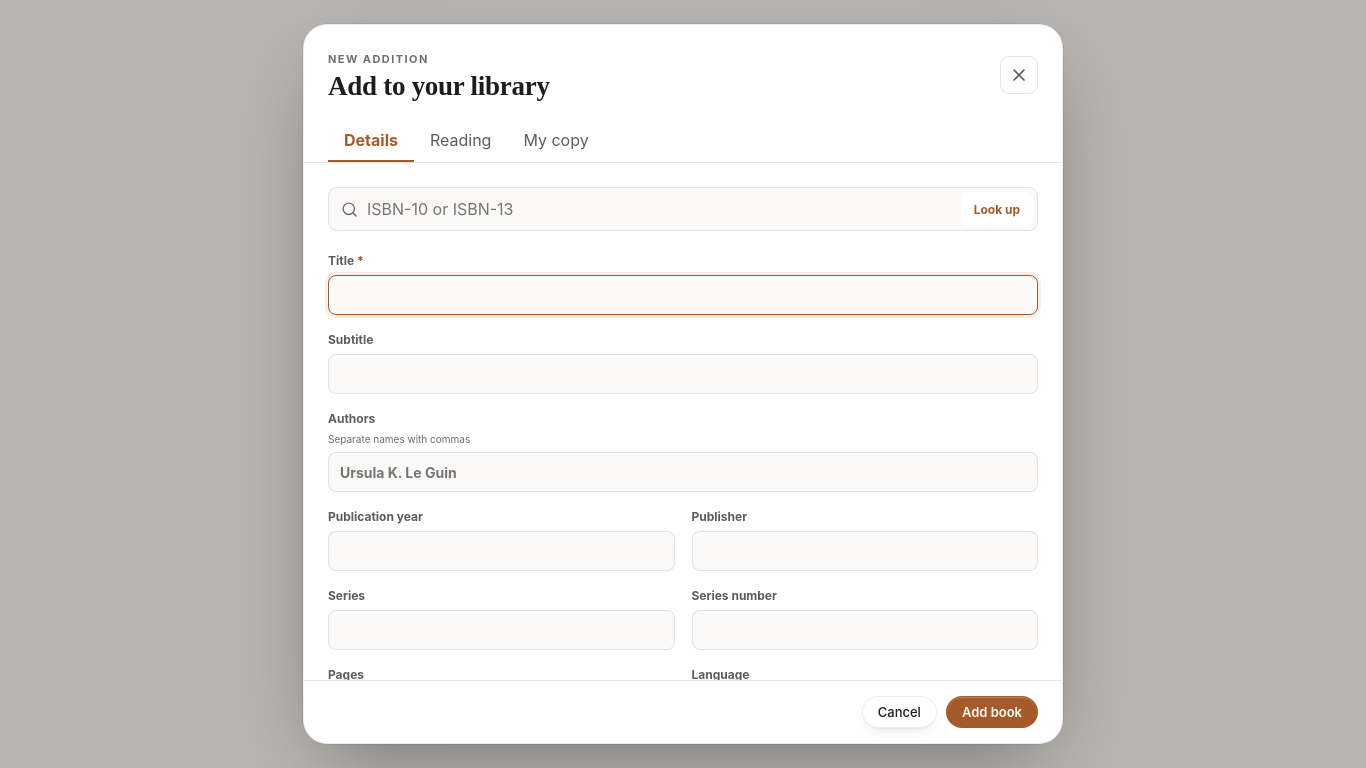
Test case: dialog keyboard boundaries › focuses a missing title across tabs and shows native rejected-string errors without losing input
The width and height of the screenshot is (1366, 768).
Click the tab "Reading" at (461,141), box [414,120,508,162]
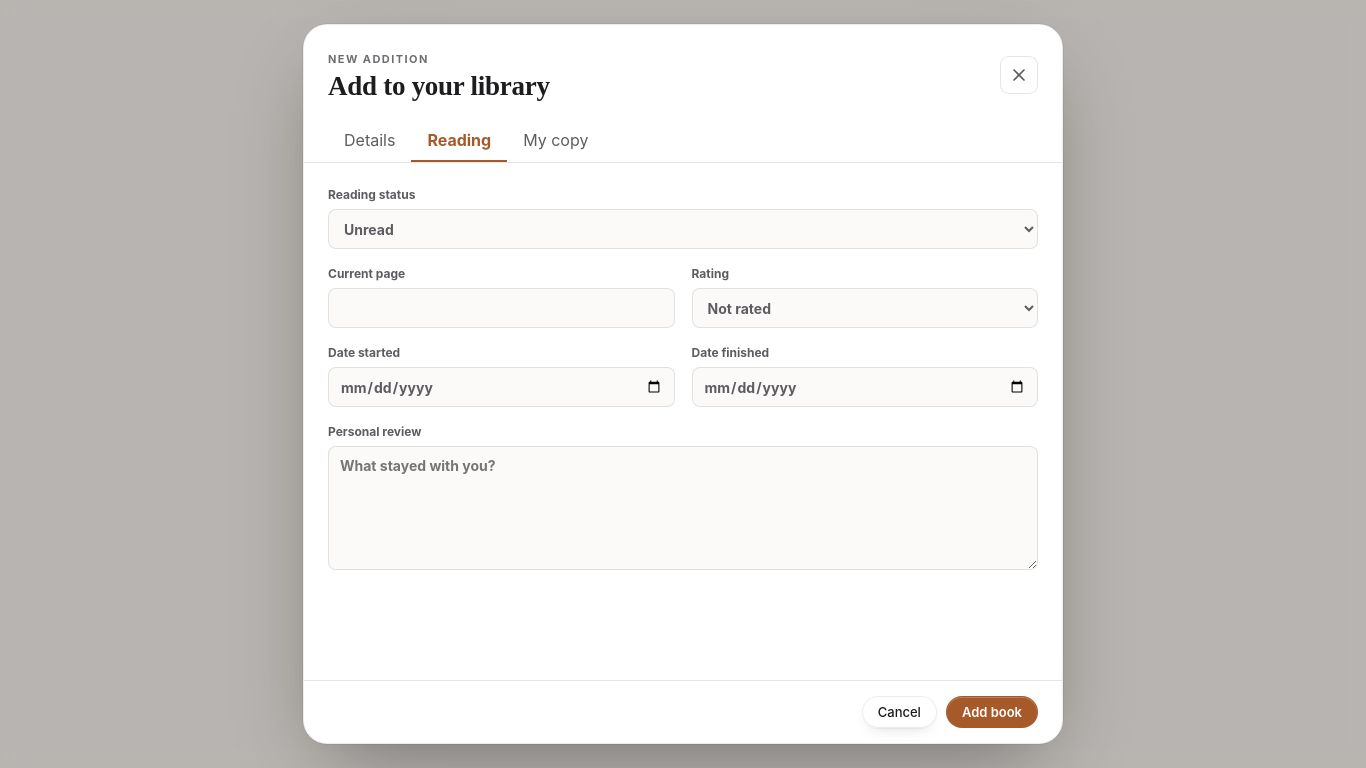
Click the button "Add book" at (992,712), box [946,696,1038,728]
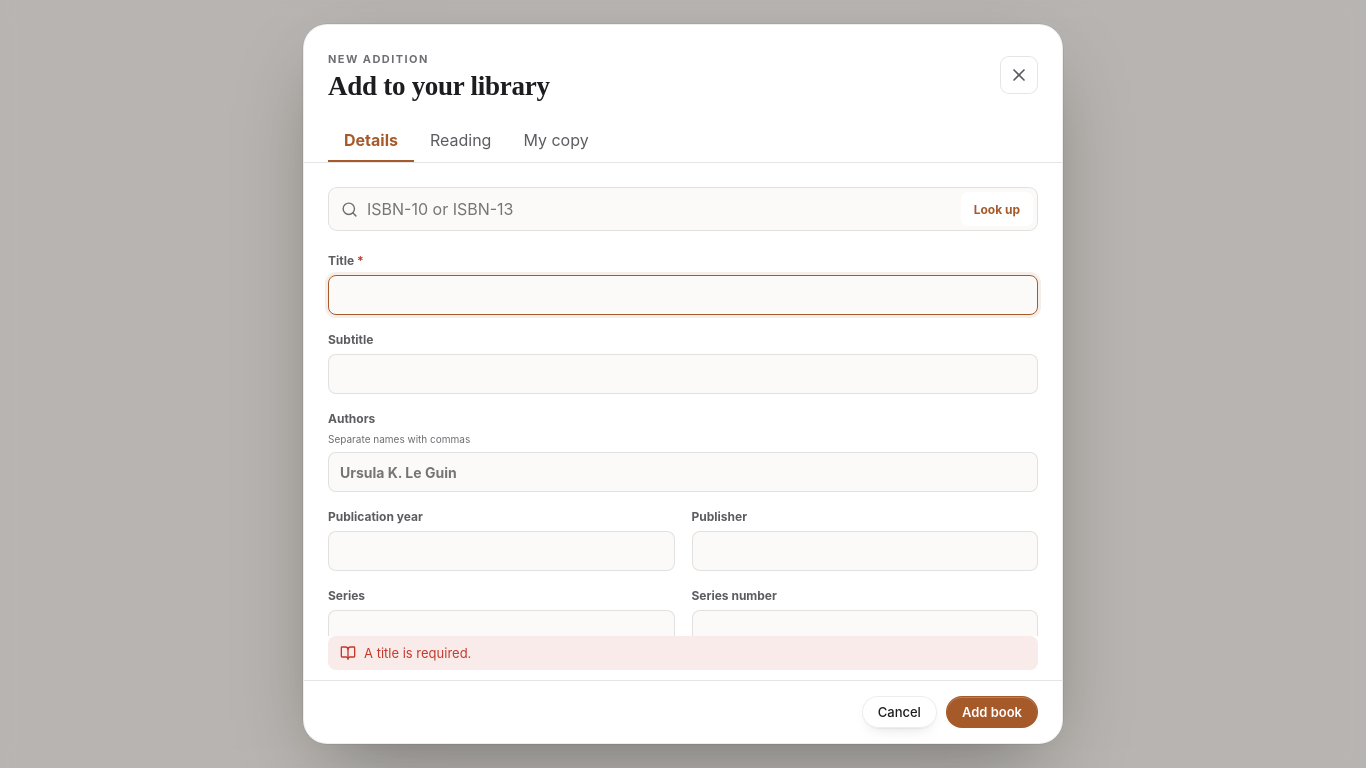
Type "Keep my draft" into the field labelled "Title *" at (683,295), box [328,275,1038,315]
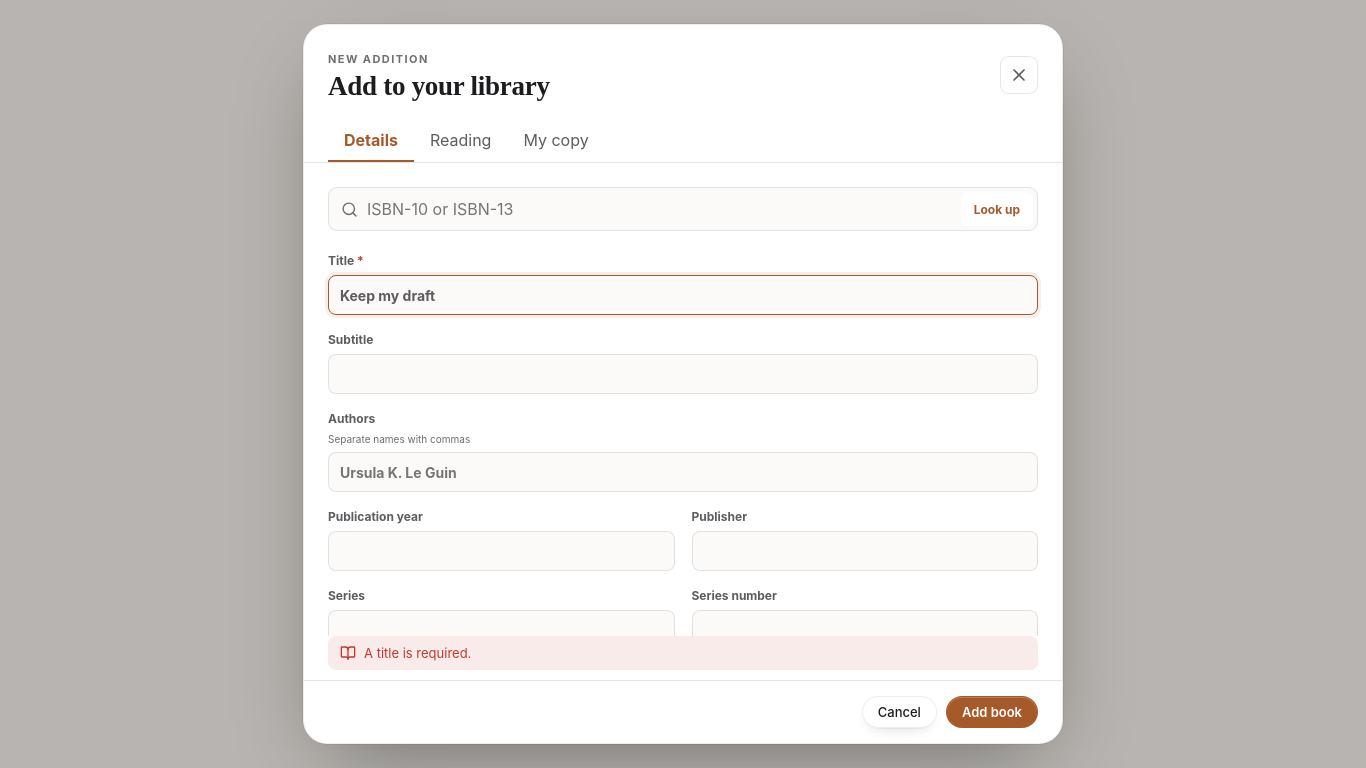
Click the button "Add book" at (992,712), box [946,696,1038,728]
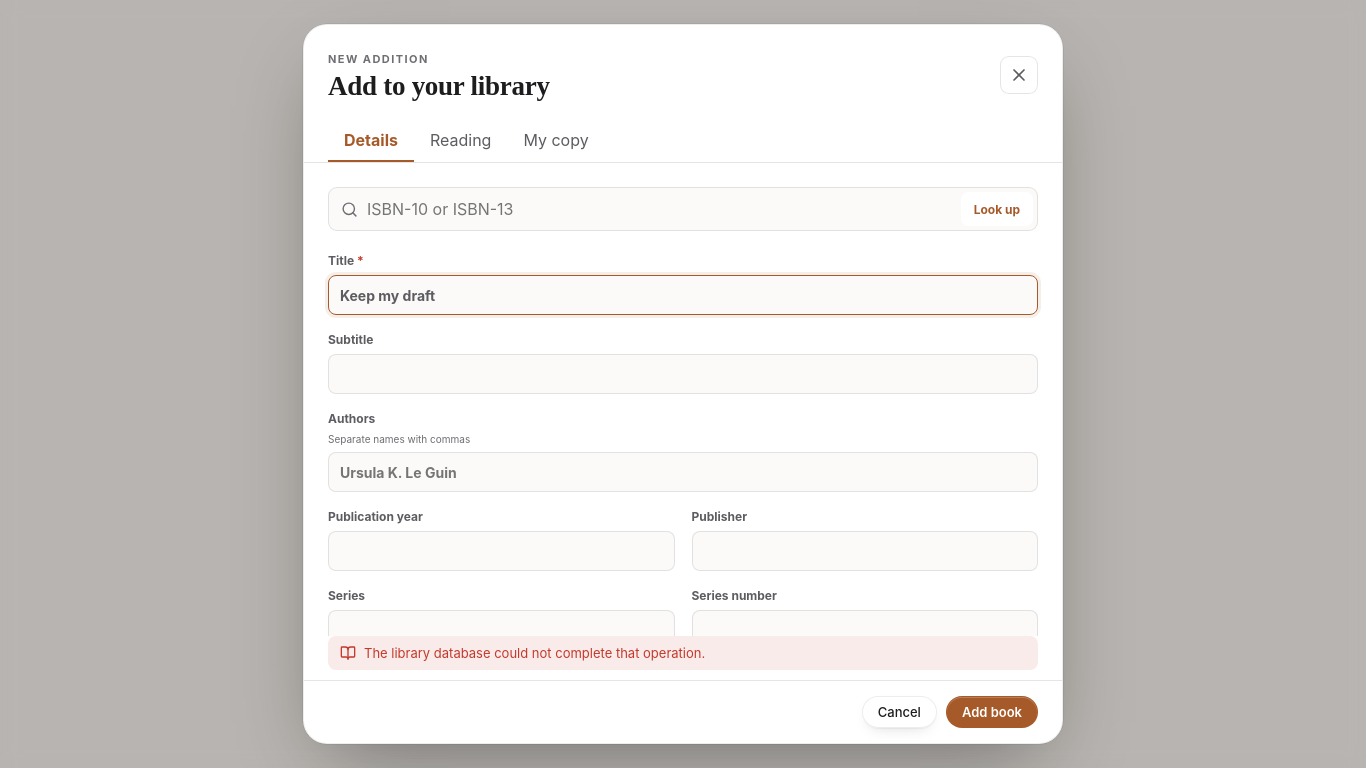
Expected: the message shows "could not complete", [364,645,705,661]
